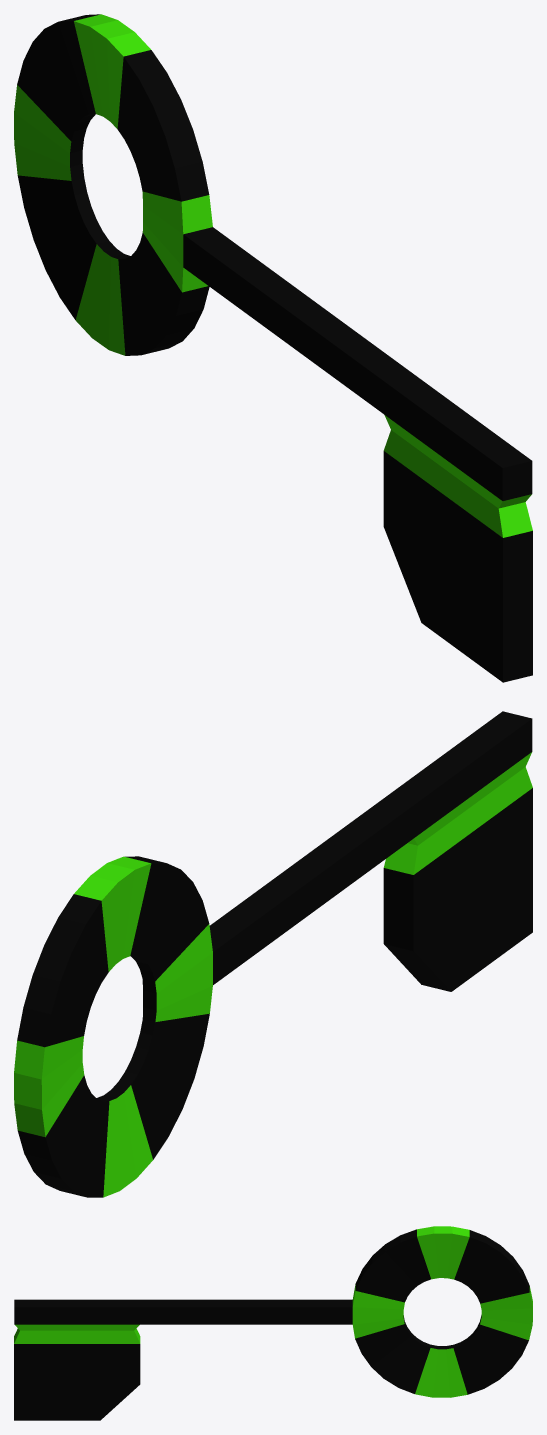
Rendered from LowPolyGreenKey.fbx.
3 views of the same model, one above another, from view 1: azimuth 30°, elevation 25°; view 2: azimuth 150°, elevation 25°; view 3: azimuth 270°, elevation 25° (orthographic). The views are drawn at different scales.
Parts seen in each view (by area): view 1: Cube; view 2: Cube; view 3: Cube.
Boxes of the visible parts, <box> form: Cube: <box>14,14,532,682</box>; Cube: <box>14,711,532,1197</box>; Cube: <box>14,1226,532,1420</box>.
Size of the model in its own units: 21.56 by 243 by 611.
